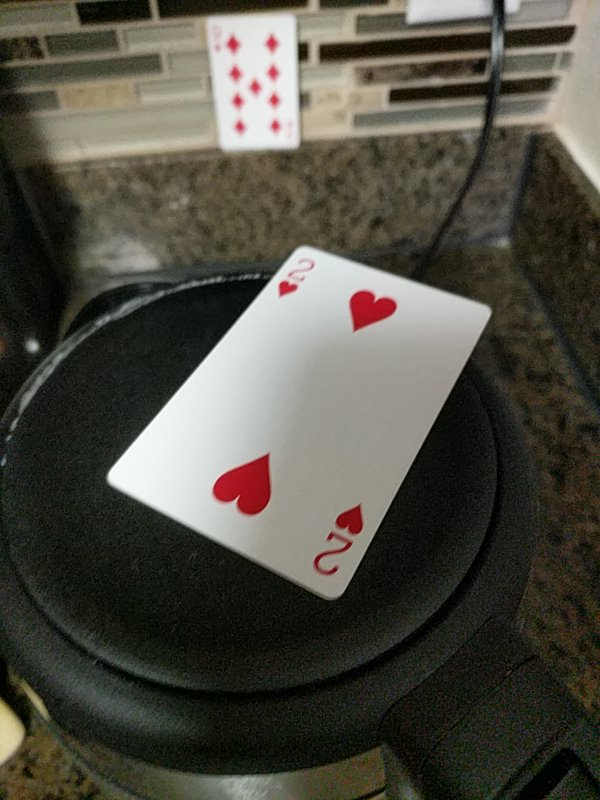Diamonds: (205, 12, 303, 153)
Hearts: (105, 245, 494, 600)
